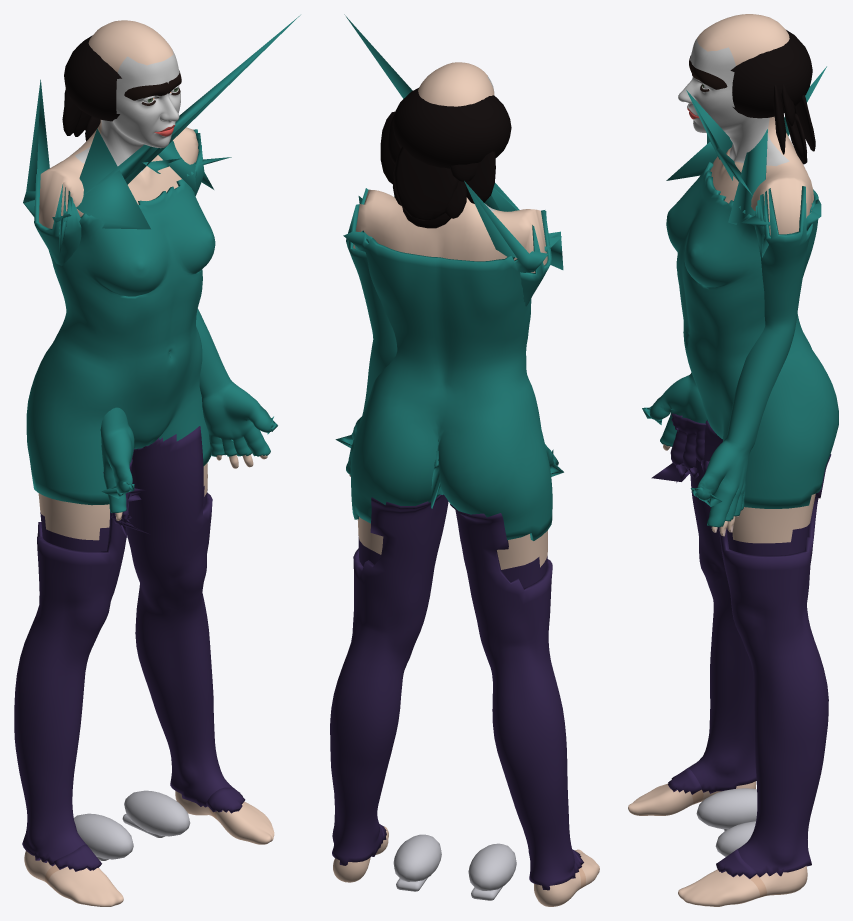
File: hm_ped_suki.obj
3 renders of one model, left to right at view 1: azimuth 30°, elevation 25°; view 2: azimuth 150°, elevation 25°; view 3: azimuth 270°, elevation 25°, orthographic.
Parts seen in each view (by area): view 1: hm_ped_suki; view 2: hm_ped_suki; view 3: hm_ped_suki.
Boxes of the visible parts, x1,y1,x2,y2 form: hm_ped_suki: (14, 15, 300, 906); hm_ped_suki: (330, 14, 599, 906); hm_ped_suki: (628, 14, 838, 906).
Size of the model in its own units: 0.5178 by 1.62 by 0.3728.
